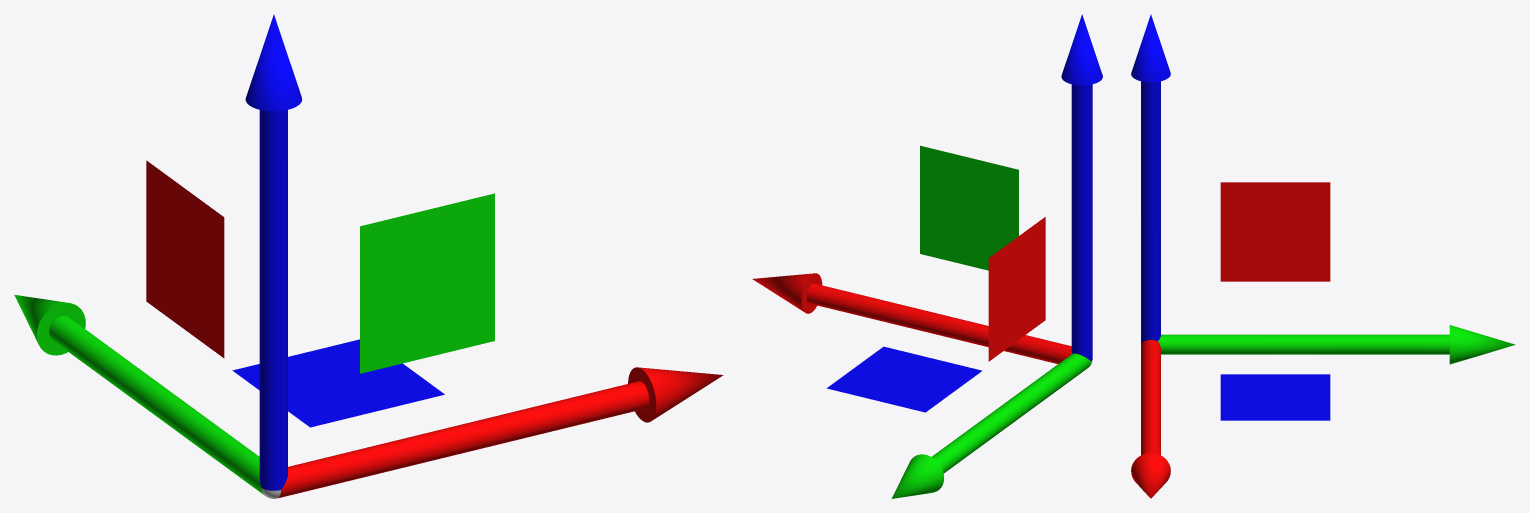
The model's file is gizmo-move.glb.
The picture shows the model from 3 angles, left to right: view 1: azimuth 30°, elevation 25°; view 2: azimuth 150°, elevation 25°; view 3: azimuth 270°, elevation 25°; orthographic projection. The views are drawn at different scales.
Visible parts, largest first — view 1: Y Plane, X Plane, Z, X, Z Plane, Y, Z Cone, X Cone, Y Cone; view 2: Y Plane, X Plane, Z, Z Plane, X, Y, Z Cone, Y Cone, X Cone; view 3: X Plane, Y, Z Plane, Z, X, Z Cone, Y Cone, X Cone.
Part boxes in pixels (left/top/right/bottom): Y Plane: left=360, top=193, right=494, bottom=373; X Plane: left=146, top=160, right=224, bottom=358; Z: left=259, top=110, right=287, bottom=490; X: left=278, top=381, right=649, bottom=498; Z Plane: left=232, top=339, right=444, bottom=427; Y: left=49, top=316, right=264, bottom=495; Z Cone: left=245, top=14, right=301, bottom=111; X Cone: left=628, top=367, right=723, bottom=422; Y Cone: left=14, top=294, right=85, bottom=355; Y Plane: left=920, top=145, right=1018, bottom=270; X Plane: left=988, top=217, right=1045, bottom=361; Z: left=1071, top=84, right=1092, bottom=361; Z Plane: left=827, top=346, right=982, bottom=412; X: left=806, top=283, right=1071, bottom=363; Y: left=932, top=353, right=1090, bottom=473; Z Cone: left=1061, top=14, right=1102, bottom=85; Y Cone: left=891, top=454, right=943, bottom=498; X Cone: left=752, top=273, right=822, bottom=313; X Plane: left=1220, top=182, right=1330, bottom=281; Y: left=1158, top=334, right=1449, bottom=354; Z Plane: left=1220, top=374, right=1330, bottom=420; Z: left=1141, top=81, right=1160, bottom=343; X: left=1141, top=340, right=1160, bottom=455; Z Cone: left=1131, top=14, right=1170, bottom=82; Y Cone: left=1449, top=325, right=1515, bottom=364; X Cone: left=1131, top=453, right=1170, bottom=498.
Size of what is drawn, in the model's own units: 3.87 by 3.87 by 3.87.
